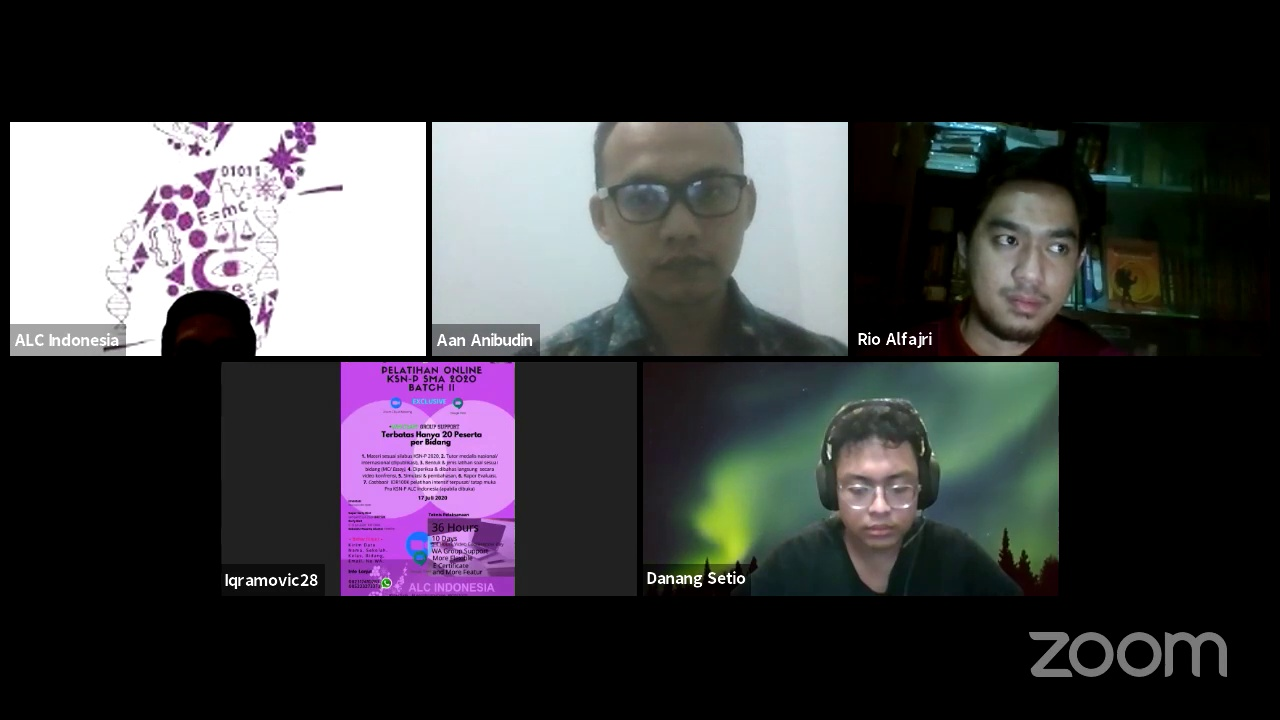Distracted: (948, 171, 1102, 337), (808, 403, 949, 560)
Not Distracted: (576, 148, 771, 301)
